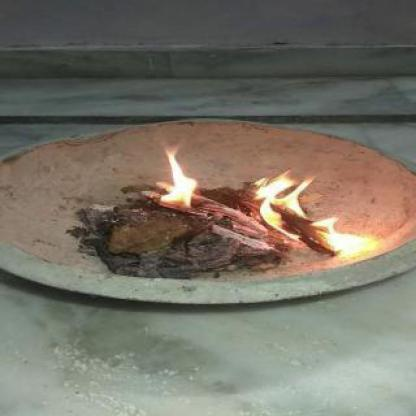fire: (251, 168, 381, 256), (150, 135, 206, 213)
